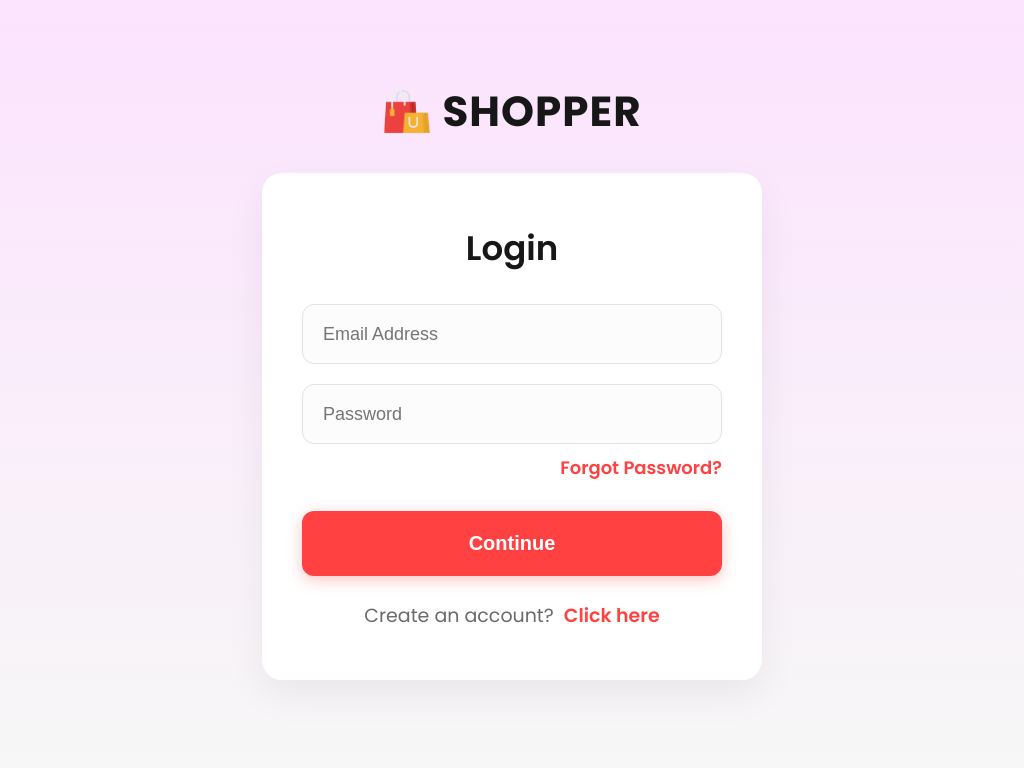
LoginSignup Component › switches to signup mode and renders name field
The image size is (1024, 768).
Step 1. Click the text "Click here" → (612, 616), box top-left (564, 602), bottom-right (660, 629)
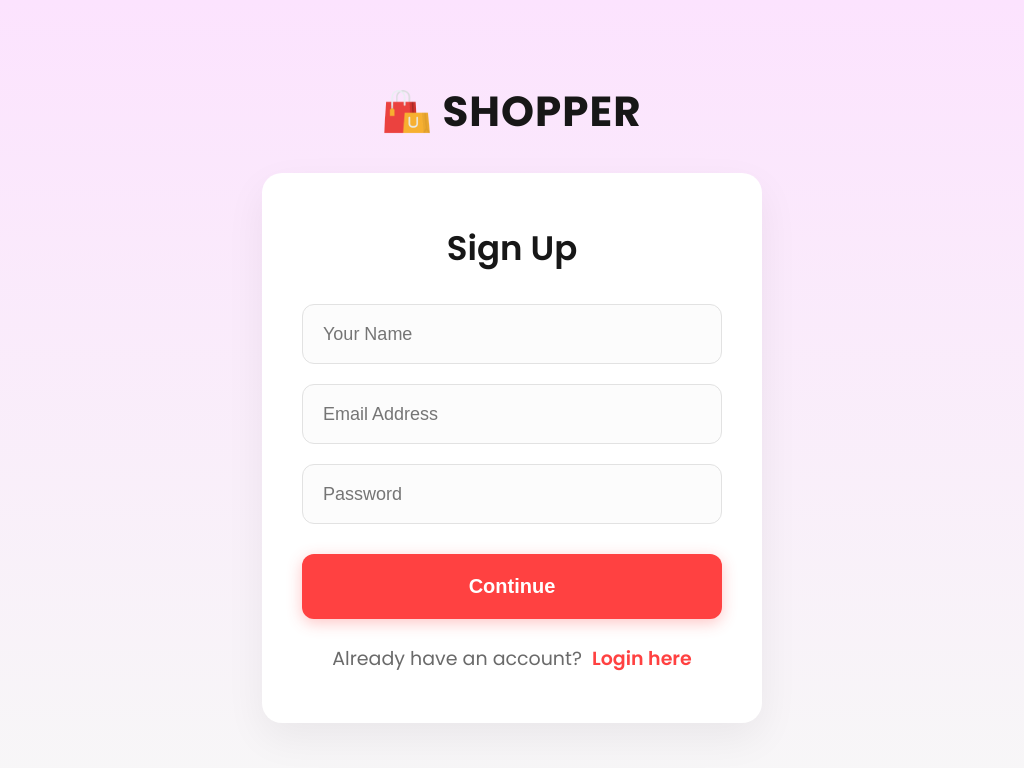
Check: the heading "Sign Up" is shown, box top-left (447, 224), bottom-right (577, 272)
Check: the field with placeholder "Your Name" is shown, box top-left (302, 304), bottom-right (722, 364)
